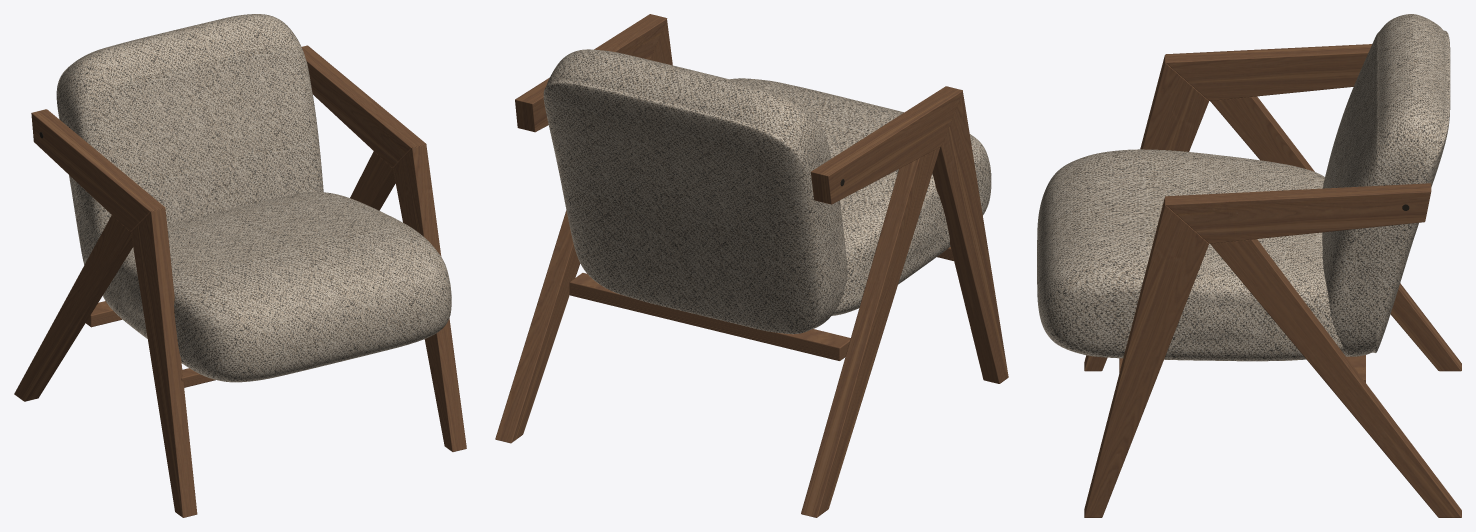
Rendered from taro-v4.glb.
The picture shows the model from 3 angles, left to right: view 1: azimuth 30°, elevation 25°; view 2: azimuth 150°, elevation 25°; view 3: azimuth 270°, elevation 25°; orthographic projection. The views are drawn at different scales.
Parts seen in each view (by area): view 1: Taro_V4_Web_Chair; view 2: Taro_V4_Web_Chair; view 3: Taro_V4_Web_Chair.
Part boxes in pixels (x1,y1,x2,y2): Taro_V4_Web_Chair: (14, 14, 466, 517); Taro_V4_Web_Chair: (495, 14, 1008, 517); Taro_V4_Web_Chair: (1037, 14, 1461, 517).
Bounding box in the file's own units: 0.6604 × 0.7628 × 0.7662.
5 materials, 4 textured.
